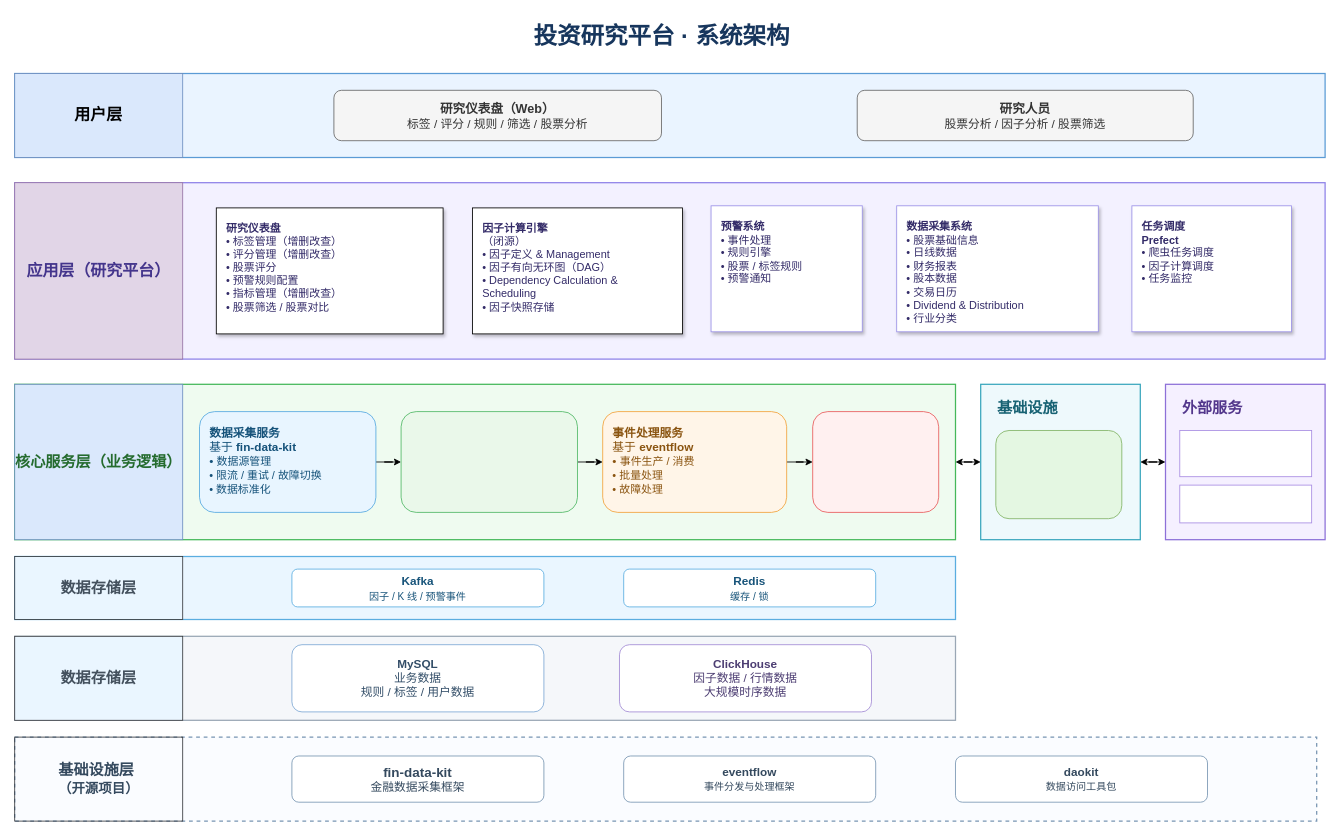
This 1341x836 diagram has some shape labels left out. The centre of each missing label's shape, as x and y in pixels:
"daokit MySQL / ClickHouse 异步数据访问对象（DAO） 数据访问工具包" belongs at point (1058, 474).
"因子计算服务 （闭源） • 因子定义 • DAG 执行 • 计算任务调度 • 结果存储" belongs at point (489, 461).
"规则引擎 （闭源） • 股票规则 • 标签规则 • 规则匹配 • 触发预警" belongs at point (875, 461).
"通知服务 电子邮件" belongs at point (1245, 503).
"金融数据源 雪球 / 东方财富 / 证券交易所等" belongs at point (1245, 453).
